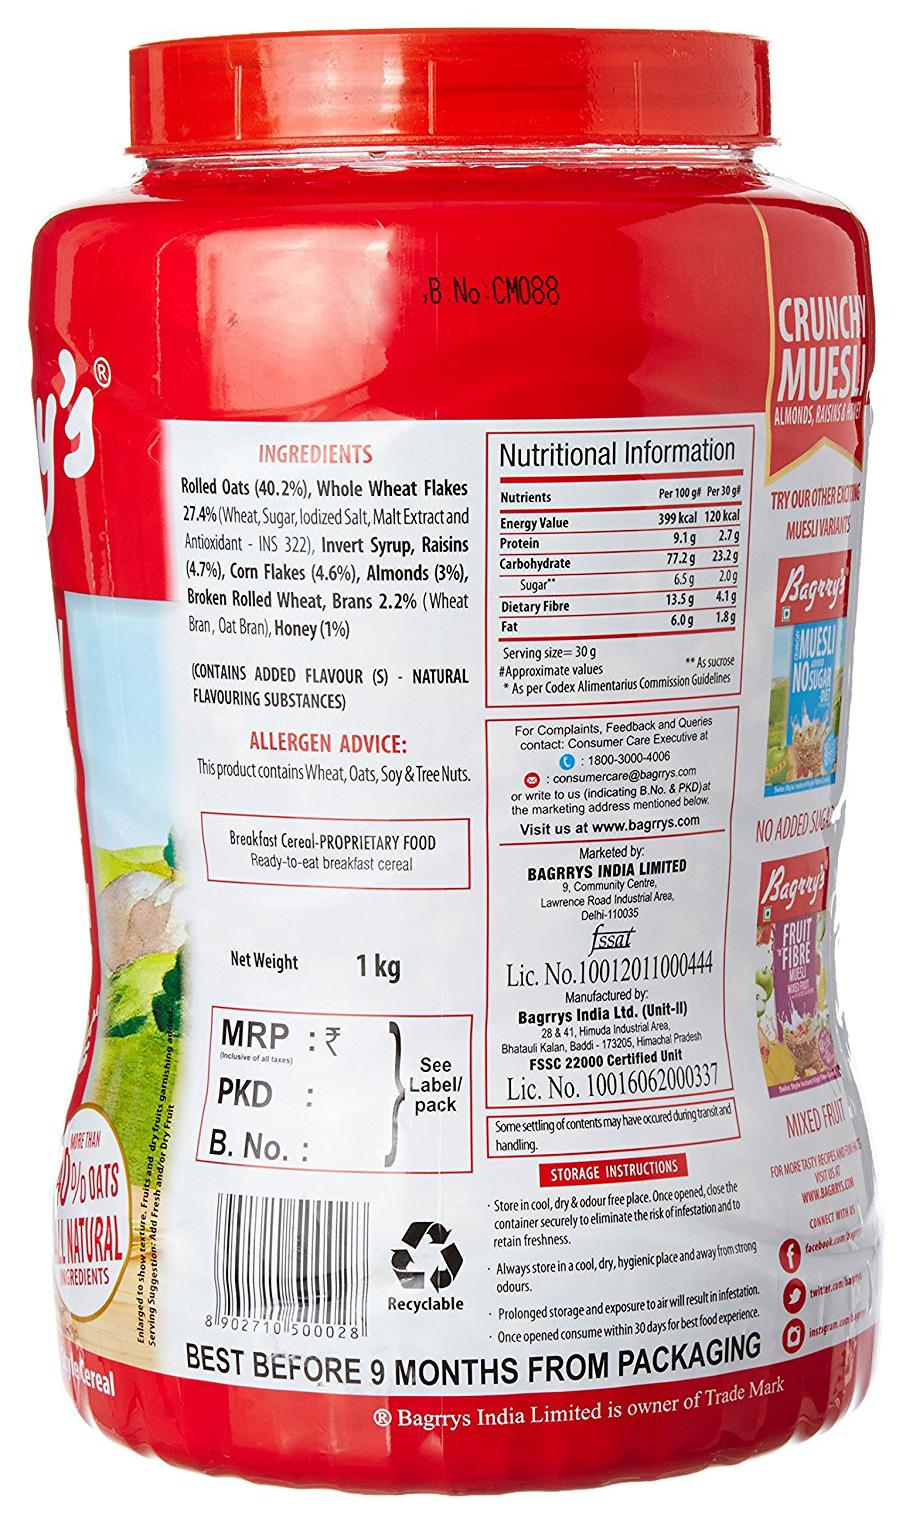fssai: (586, 925, 636, 952)
